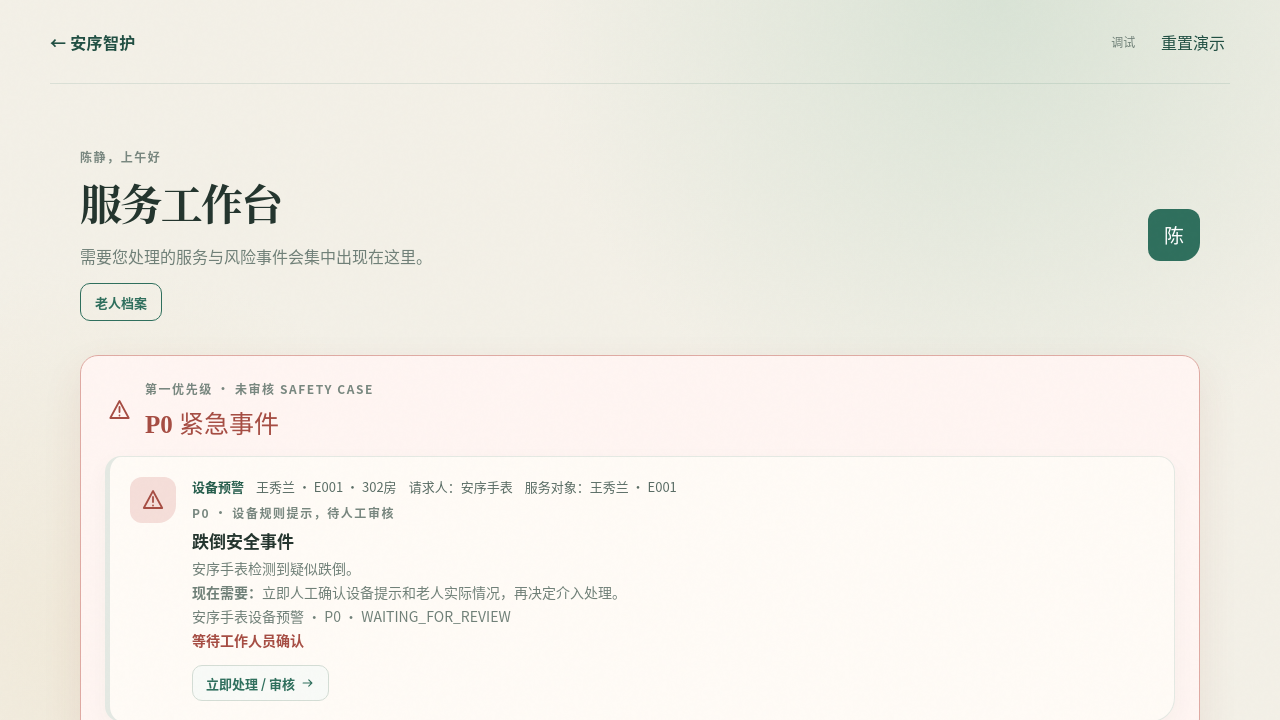
it: Phase 1 and Phase 2 routes and interactions › shows the elder summary and wearable origin without implying an elder report
The image size is (1280, 720).
Expected: the heading "服务工作台" is shown, x1=80 y1=172 x2=282 y2=232
Expected: the element named "立即处理 / 审核" shows "设备预警", x1=192 y1=477 x2=244 y2=496
Click the link "立即处理 / 审核" at (260, 683), box x1=192 y1=665 x2=329 y2=701
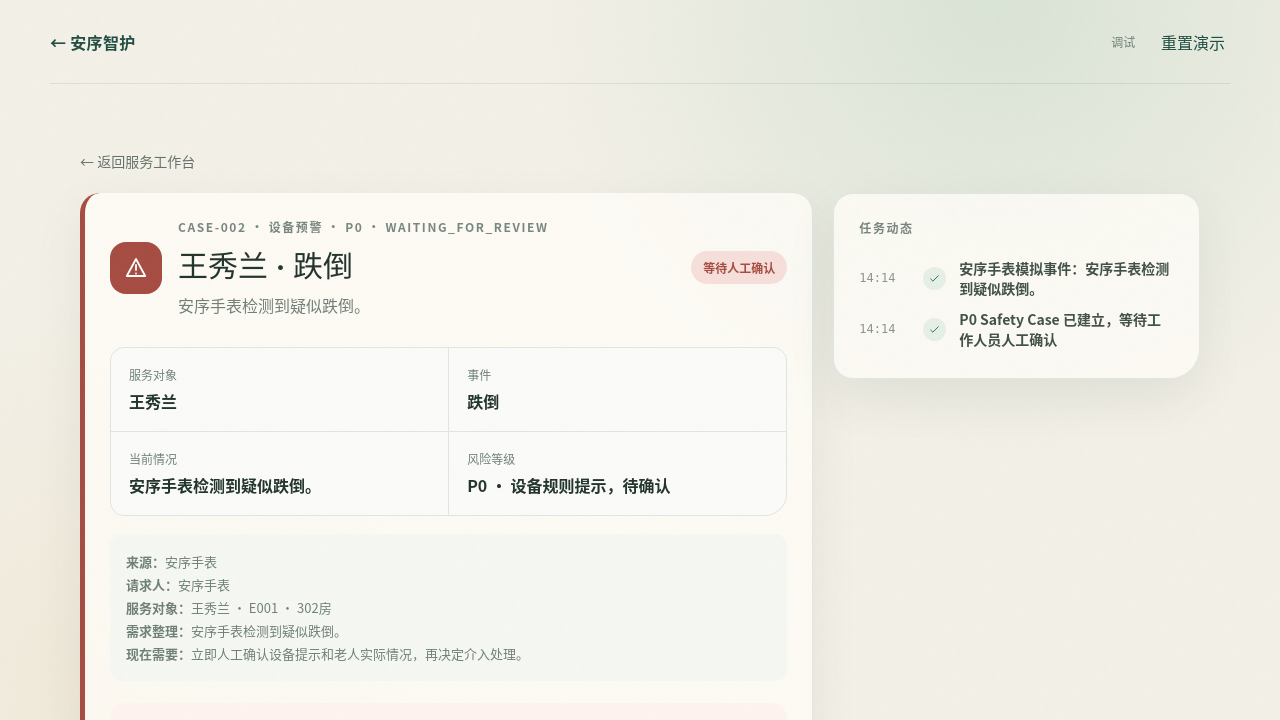
Result: the text "设备规则提示，待确认" is shown at x1=467 y1=473 x2=671 y2=497
